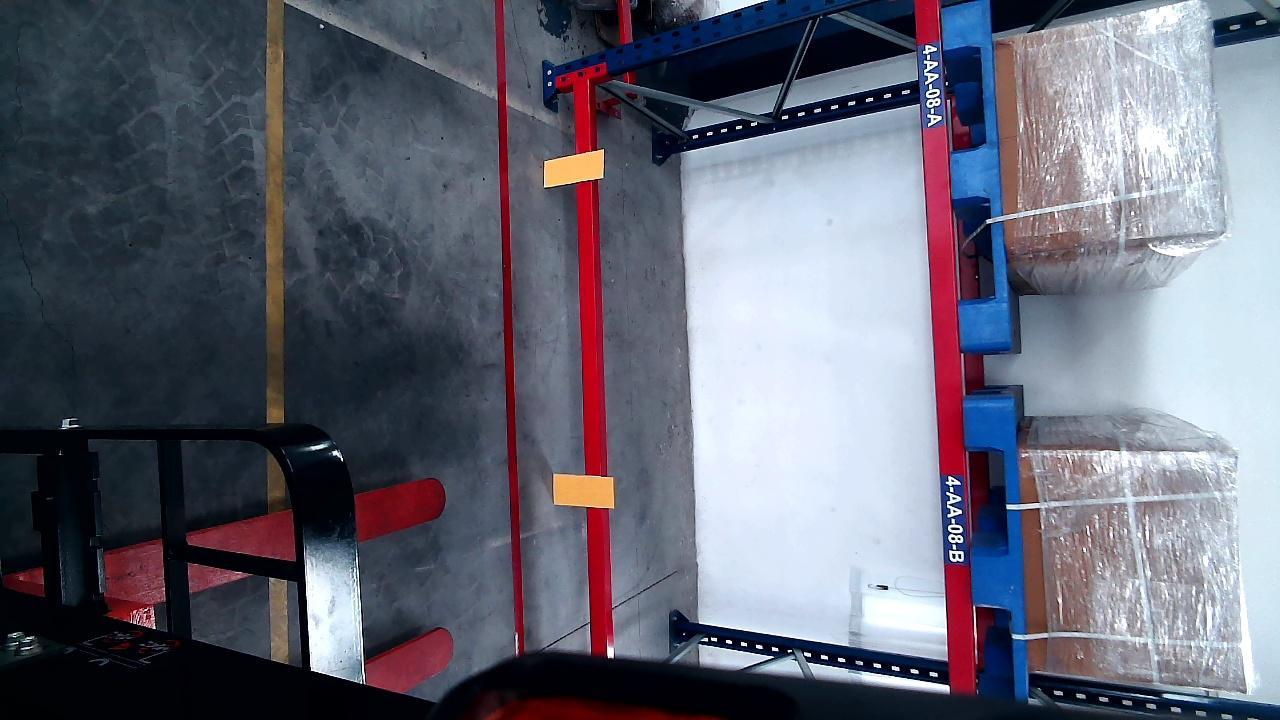red_line: (494, 1, 526, 653)
yellow_line: (263, 0, 287, 417)
